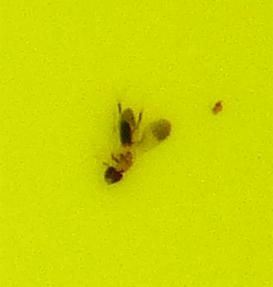Brachycera: (100, 100, 173, 187)
